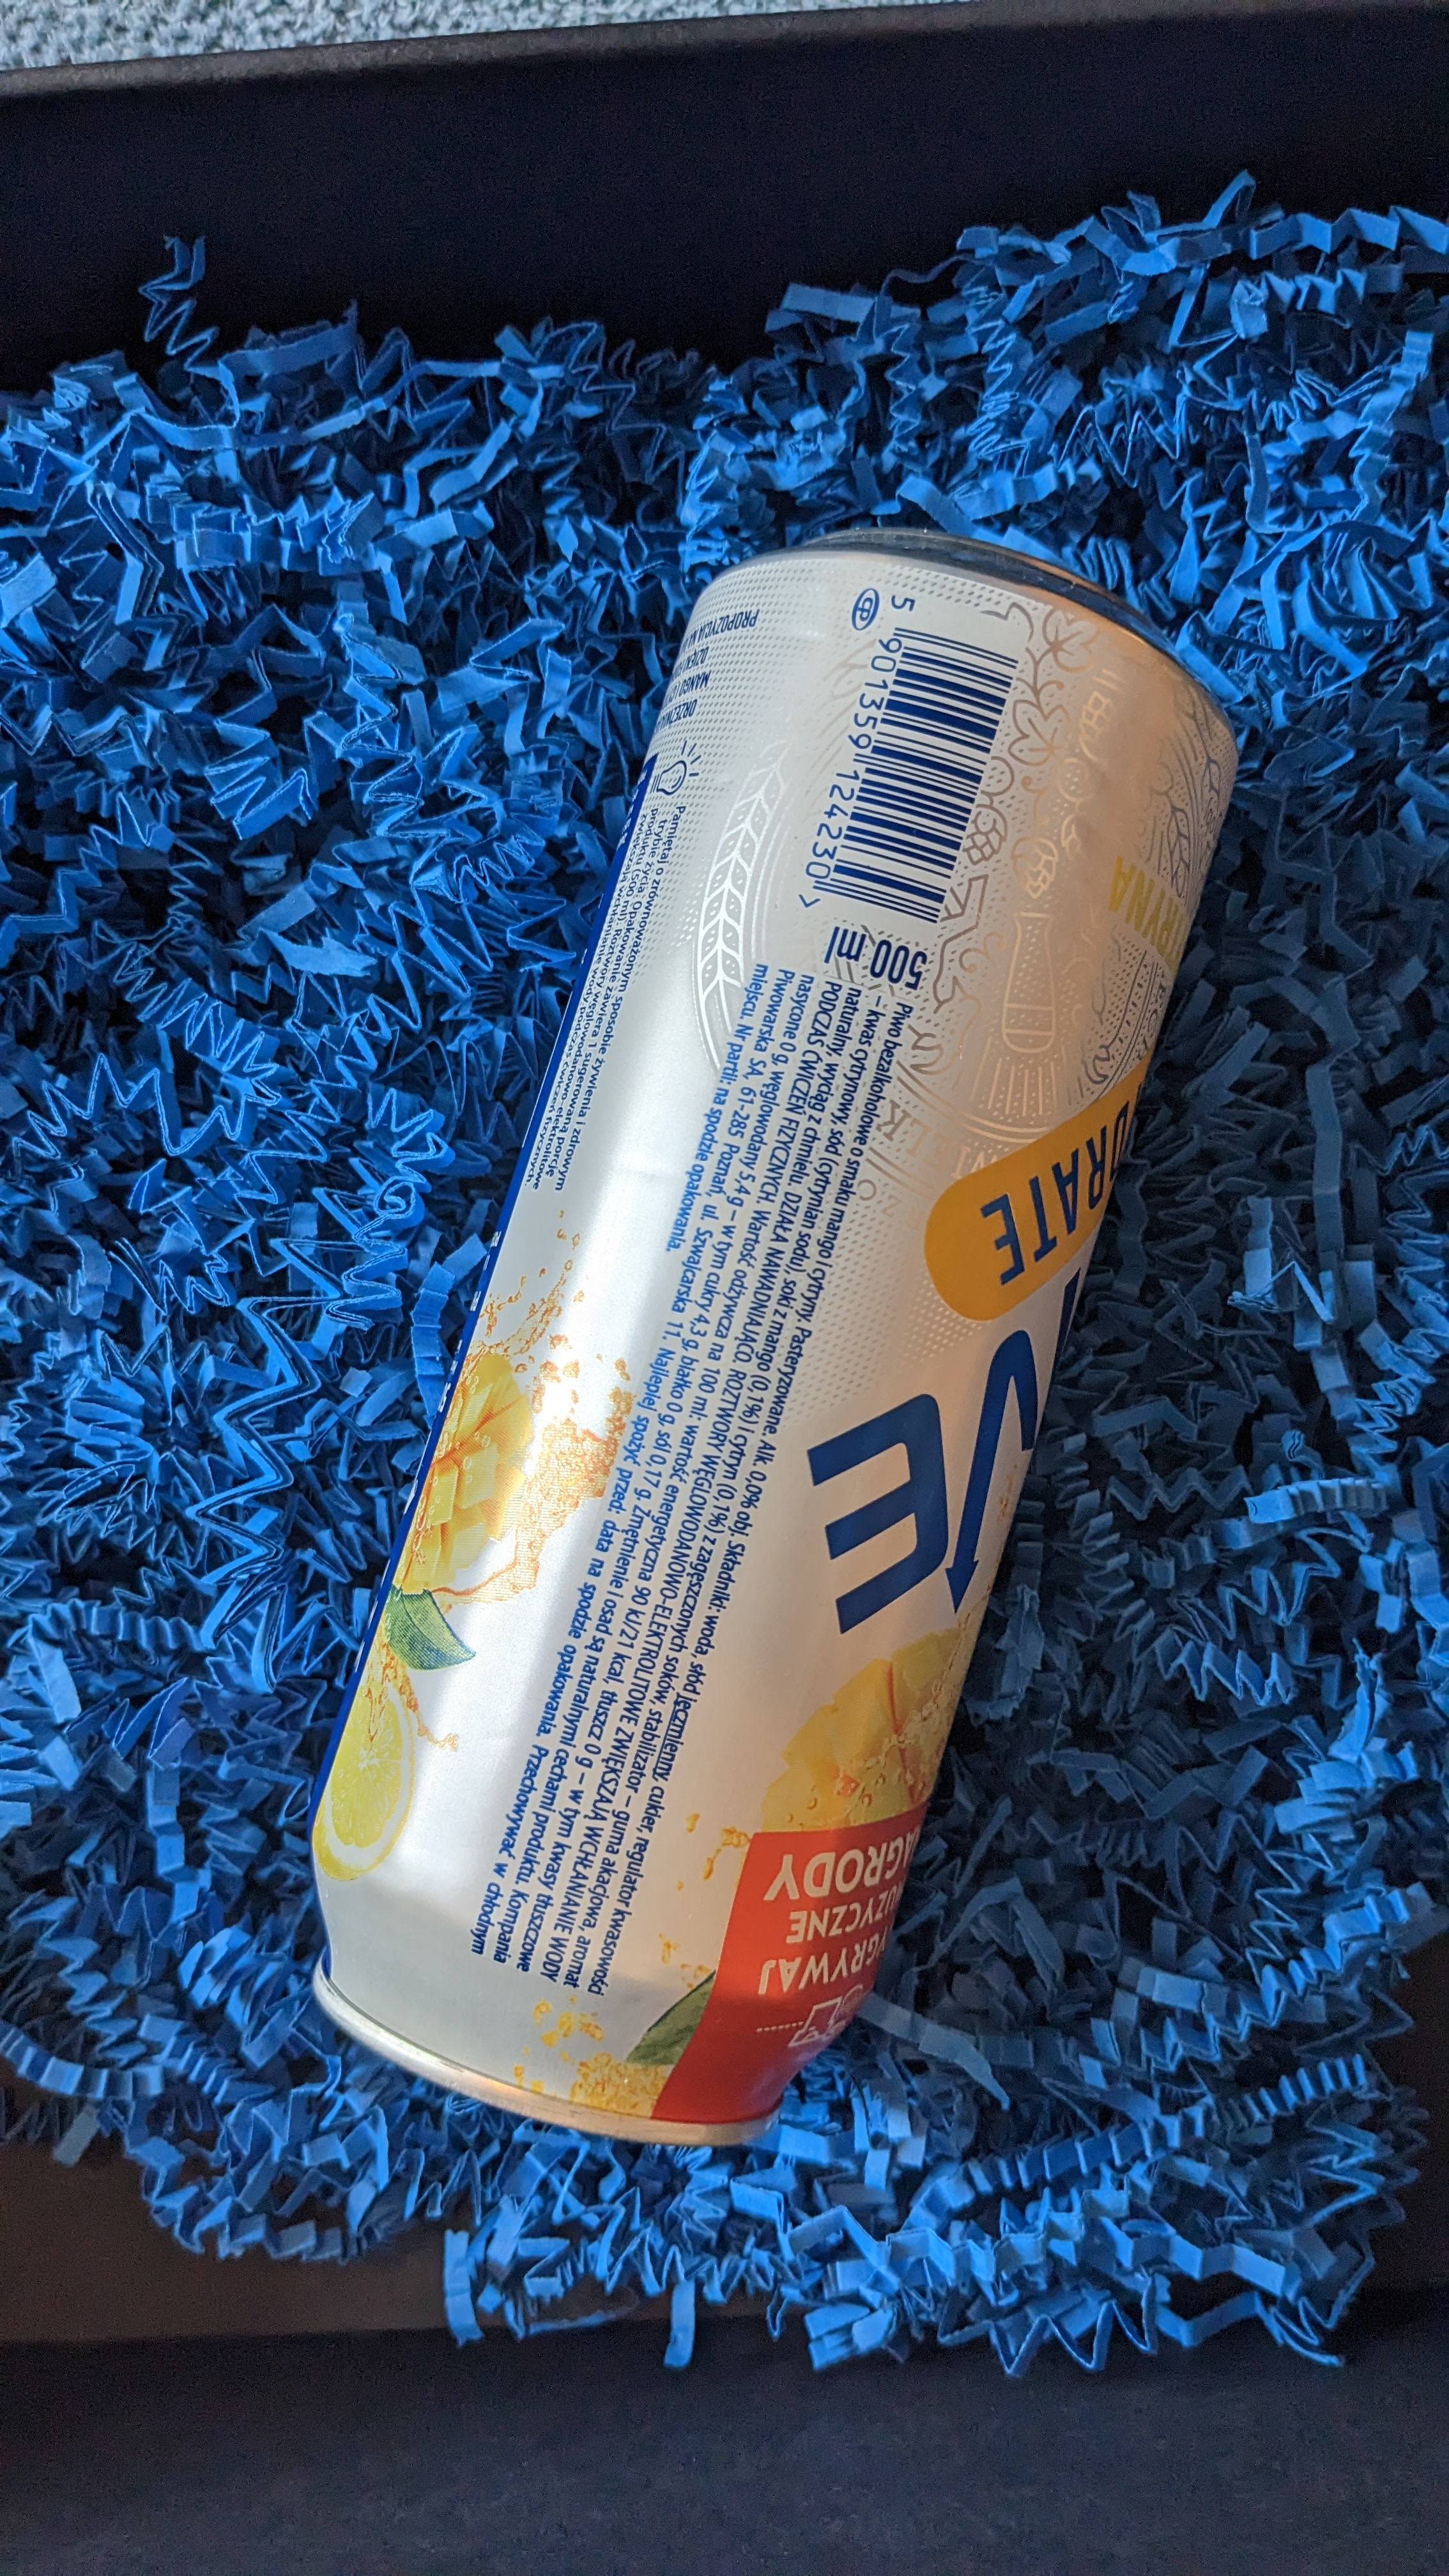lech-active: (278, 513, 1254, 2160)
